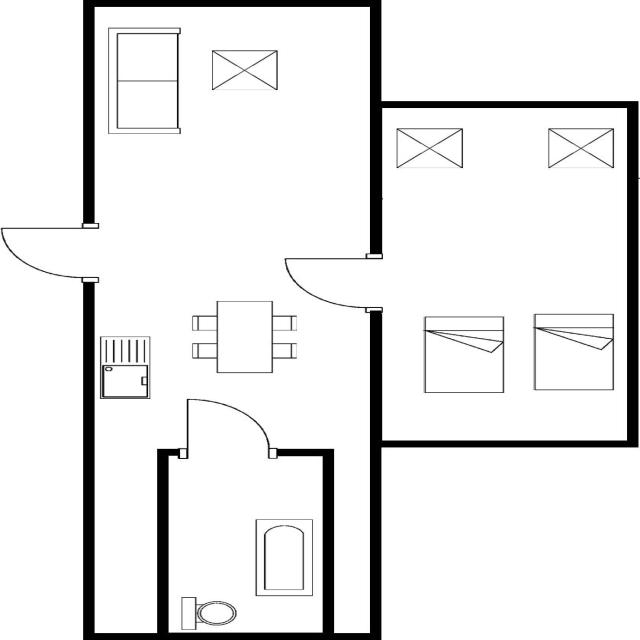bed: (416, 311, 512, 397), (526, 310, 620, 395)
coffee_table: (390, 125, 470, 173), (541, 125, 621, 173), (207, 45, 283, 95)
dining_table: (187, 298, 300, 378)
large_sink: (174, 594, 239, 632)
large_sofa: (101, 23, 186, 138)
sink: (93, 332, 157, 402)
tub: (248, 515, 319, 601)
